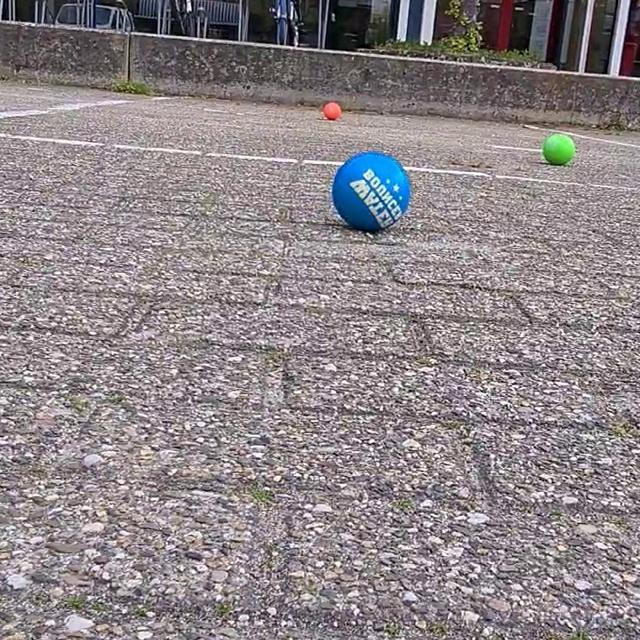ball: (538, 129, 580, 170), (320, 99, 342, 124)
